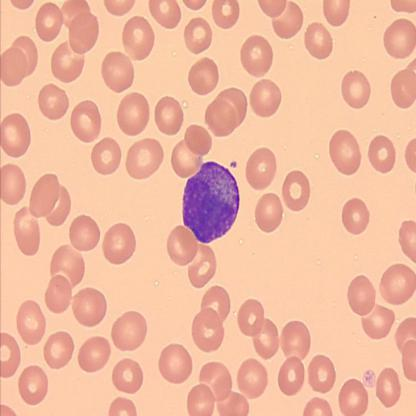Myelocyte: (183, 159, 242, 243)
